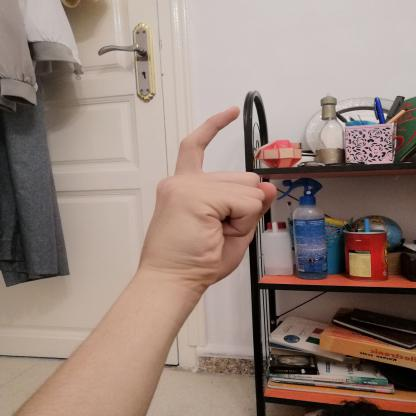RAA: (129, 101, 287, 296)
